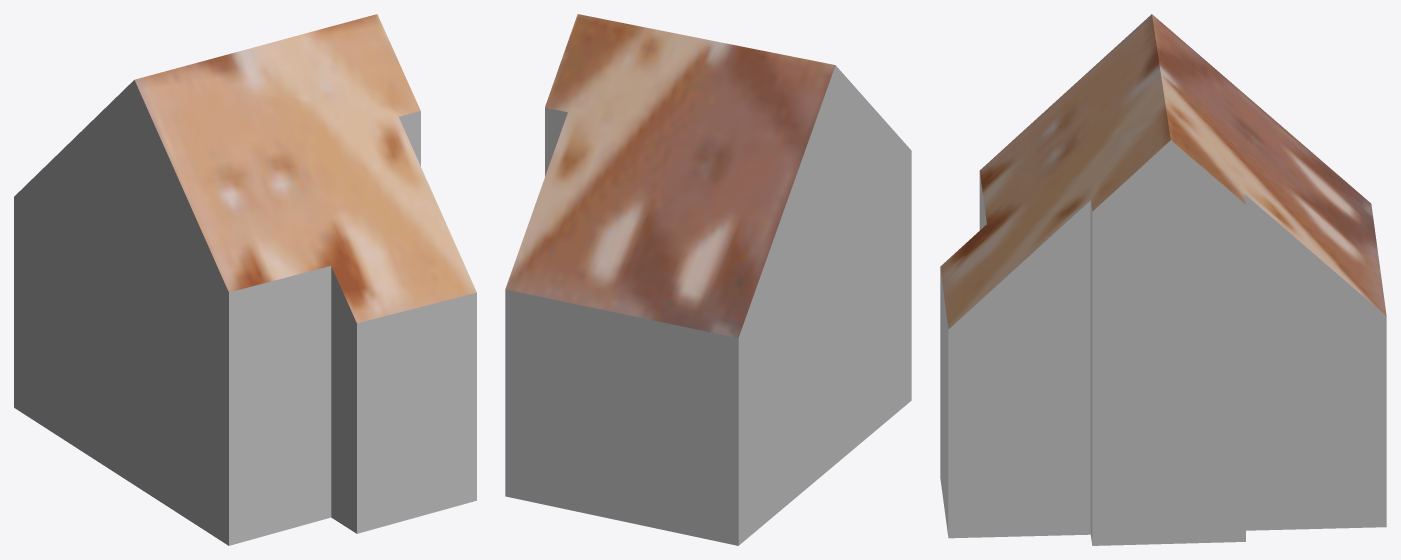
Rendered from DEBW_0010007TxdY.gltf.
The picture shows the model from 3 angles, left to right: view 1: azimuth 30°, elevation 25°; view 2: azimuth 150°, elevation 25°; view 3: azimuth 270°, elevation 25°; orthographic projection.
Parts seen in each view (by area): view 1: Z_UP; view 2: Z_UP; view 3: Z_UP.
Boxes of the visible parts, x1,y1,x2,y2 form: Z_UP: [14, 14, 476, 545]; Z_UP: [505, 14, 911, 545]; Z_UP: [940, 14, 1386, 545].
Bounding box in the file's own units: 9.9 × 14.34 × 14.27.
Materials: 2 (1 with a texture image).
